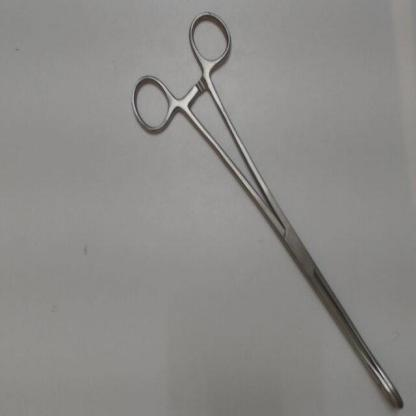Sponge Forceps: (125, 3, 409, 414)
